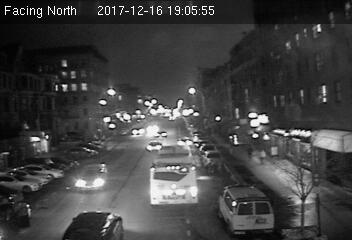bus: (148, 141, 200, 213)
car: (59, 210, 128, 240), (76, 163, 108, 193), (203, 151, 221, 167), (145, 139, 163, 154)
police: (217, 181, 275, 236)
